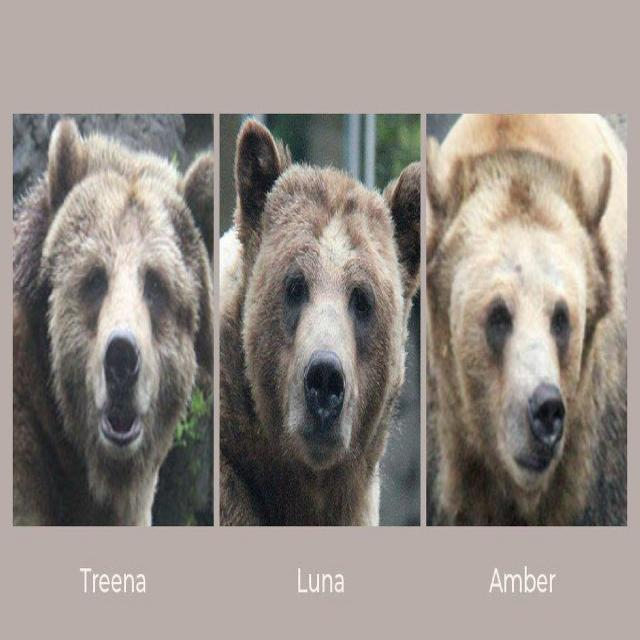Bear: (214, 120, 419, 528), (12, 120, 216, 528), (426, 114, 627, 528)
